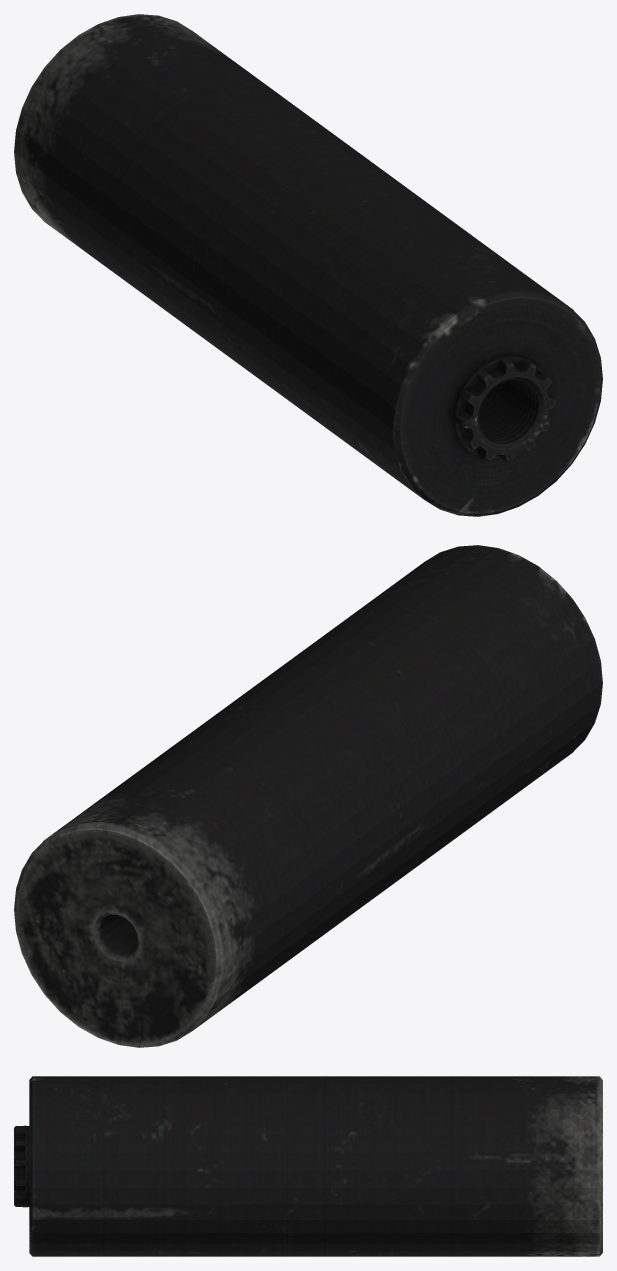
The picture shows the model from 3 angles, top to bottom: view 1: azimuth 30°, elevation 25°; view 2: azimuth 150°, elevation 25°; view 3: azimuth 270°, elevation 25°; orthographic projection. The views are drawn at different scales.
Parts seen in each view (by area): view 1: TW_5a9fb739a2750c003215717f_PZ_Import; view 2: TW_5a9fb739a2750c003215717f_PZ_Import; view 3: TW_5a9fb739a2750c003215717f_PZ_Import.
Boxes of the visible parts, x1,y1,x2,y2 form: TW_5a9fb739a2750c003215717f_PZ_Import: [14, 14, 602, 516]; TW_5a9fb739a2750c003215717f_PZ_Import: [14, 545, 602, 1047]; TW_5a9fb739a2750c003215717f_PZ_Import: [14, 1076, 602, 1256].
Size of the model in its own units: 0.0248 by 0.0809 by 0.0248.
Materials: 1 (1 with a texture image).
